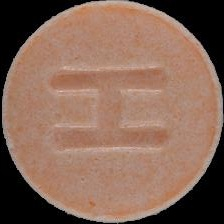51655-502: (0, 0, 224, 224)
